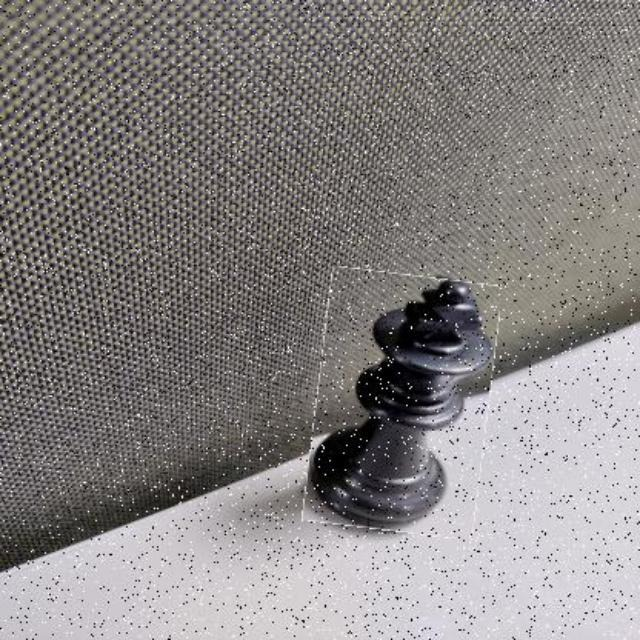black-king: (309, 272, 495, 536)
